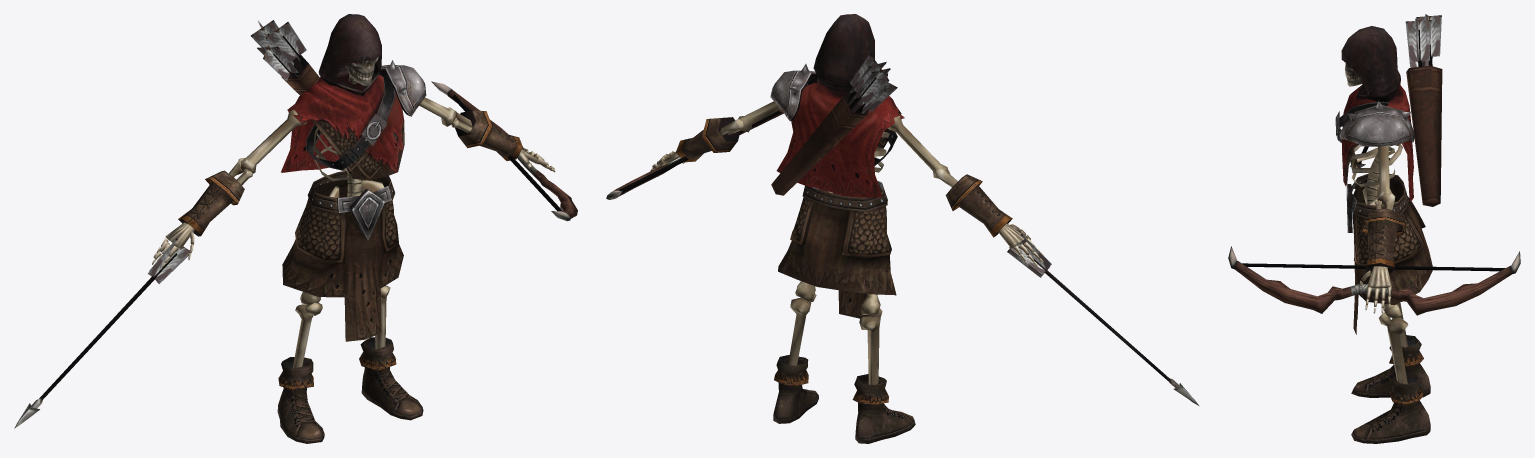
Rendered from Monster_Skeleton_Archer_Vari01_Body.fbx.
3 renders of one model, left to right at view 1: azimuth 30°, elevation 25°; view 2: azimuth 150°, elevation 25°; view 3: azimuth 270°, elevation 25°, orthographic. The views are drawn at different scales.
Parts seen in each view (by area): view 1: Monster_Skeleton_Archer_Vari01_Body; view 2: Monster_Skeleton_Archer_Vari01_Body; view 3: Monster_Skeleton_Archer_Vari01_Body.
Boxes of the visible parts, x1,y1,x2,y2 form: Monster_Skeleton_Archer_Vari01_Body: (14, 14, 577, 443); Monster_Skeleton_Archer_Vari01_Body: (606, 14, 1198, 443); Monster_Skeleton_Archer_Vari01_Body: (1228, 14, 1520, 443).
Bounding box in the file's own units: 255 × 180 × 124.
